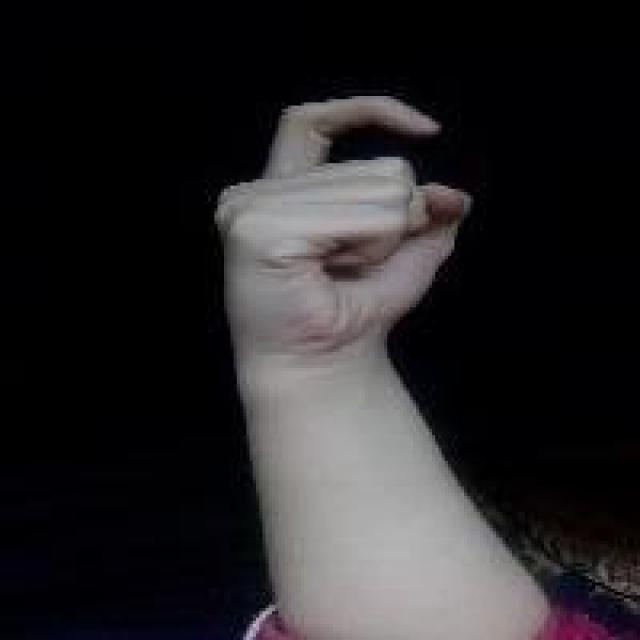X: (210, 85, 475, 363)
